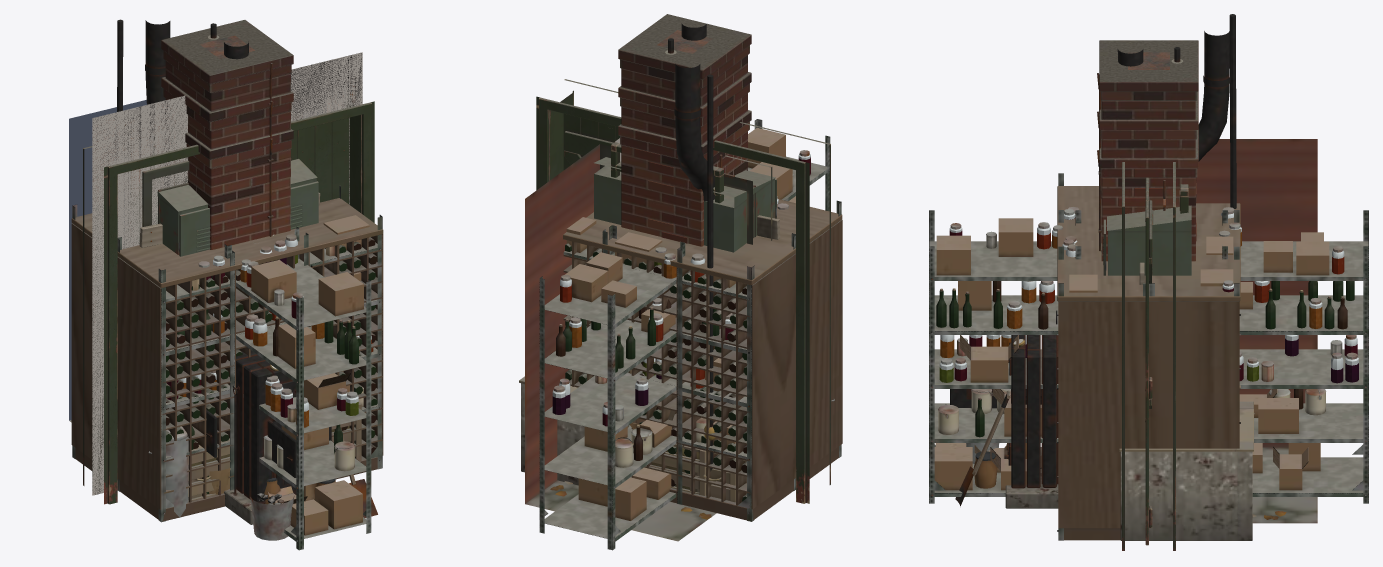
File: concrete.glb
3 views of the same model, side by side, from view 1: azimuth 30°, elevation 25°; view 2: azimuth 150°, elevation 25°; view 3: azimuth 270°, elevation 25° (orthographic). The views are drawn at different scales.
Parts seen in each view (by area): view 1: Isl_wine_rack, Solid_shelf_rack, Win_cellar, Door_frame_concrete, Col_brick_pier_H330, Solid_boiler_wall, Mod_breach_brick_B_concrete, Isl_shelving_double, Col_brick_pier_H270, Isl_boiler, Col_brick_pier_H300, Mod_breach_brick_C_concrete (+11 smaller); view 2: Isl_wine_rack, Solid_shelf_rack, Exit_concrete_p0, Col_brick_pier_H330, Door_frame_concrete, Isl_shelving_double, Isl_boiler, Ward_body_concrete, Col_brick_pier_H270, Col_brick_pier_H300, Door_leaf_concrete, Isl_crate_stack (+2 smaller); view 3: Solid_shelf_rack, Isl_wine_rack, Isl_boiler, Exit_concrete_p0, Solid_boiler_wall, Col_brick_pier_H330, Col_brick_pier_H300, Col_brick_pier_H270, Ward_body_concrete, Isl_shelving_double, Door_frame_concrete, Door_leaf_concrete (+1 smaller).
Boxes of the visible parts, x1,y1,x2,y2 form: Isl_wine_rack: [71, 198, 383, 521]; Solid_shelf_rack: [224, 226, 371, 550]; Win_cellar: [92, 52, 362, 495]; Door_frame_concrete: [83, 101, 374, 504]; Col_brick_pier_H330: [161, 20, 293, 249]; Solid_boiler_wall: [224, 41, 377, 540]; Mod_breach_brick_B_concrete: [92, 53, 362, 495]; Isl_shelving_double: [72, 185, 382, 522]; Col_brick_pier_H270: [185, 129, 293, 249]; Isl_boiler: [117, 19, 219, 517]; Col_brick_pier_H300: [161, 77, 293, 234]; Mod_breach_brick_C_concrete: [92, 52, 362, 494]; Isl_wine_rack: [563, 199, 842, 520]; Solid_shelf_rack: [539, 119, 830, 550]; Exit_concrete_p0: [525, 144, 772, 541]; Col_brick_pier_H330: [618, 14, 751, 246]; Door_frame_concrete: [536, 79, 830, 503]; Isl_shelving_double: [563, 196, 841, 521]; Isl_boiler: [519, 38, 834, 485]; Ward_body_concrete: [594, 157, 775, 252]; Col_brick_pier_H270: [618, 110, 751, 243]; Col_brick_pier_H300: [618, 72, 751, 232]; Door_leaf_concrete: [563, 113, 619, 169]; Isl_crate_stack: [631, 444, 706, 495]; Solid_shelf_rack: [929, 210, 1368, 503]; Isl_wine_rack: [1057, 186, 1240, 540]; Isl_boiler: [1119, 14, 1253, 540]; Exit_concrete_p0: [1196, 139, 1317, 523]; Solid_boiler_wall: [950, 49, 1143, 508]; Col_brick_pier_H330: [1097, 40, 1198, 260]; Col_brick_pier_H300: [1097, 91, 1198, 250]; Col_brick_pier_H270: [1097, 130, 1198, 261]; Ward_body_concrete: [1107, 205, 1191, 275]; Isl_shelving_double: [1057, 173, 1240, 540]; Door_frame_concrete: [1122, 162, 1175, 550]; Door_leaf_concrete: [1145, 177, 1152, 545].
Bounding box in the file's own units: 2.25 × 3.56 × 3.1.
36 materials, 32 textured.
